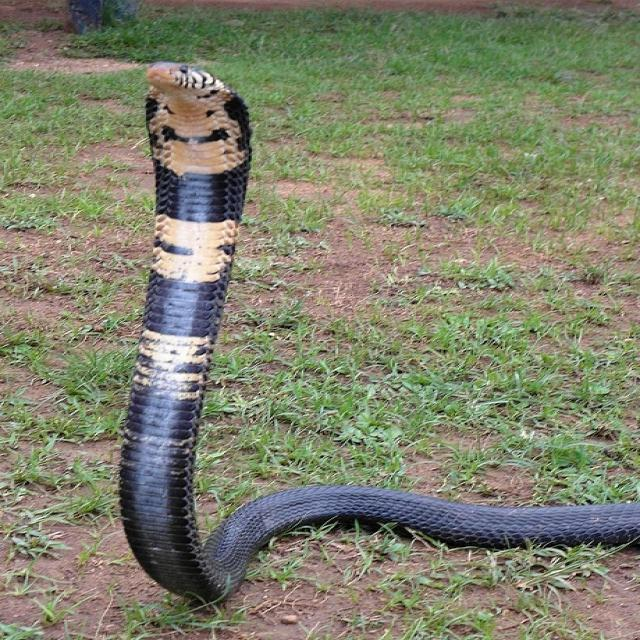Snake: (117, 60, 638, 606)
